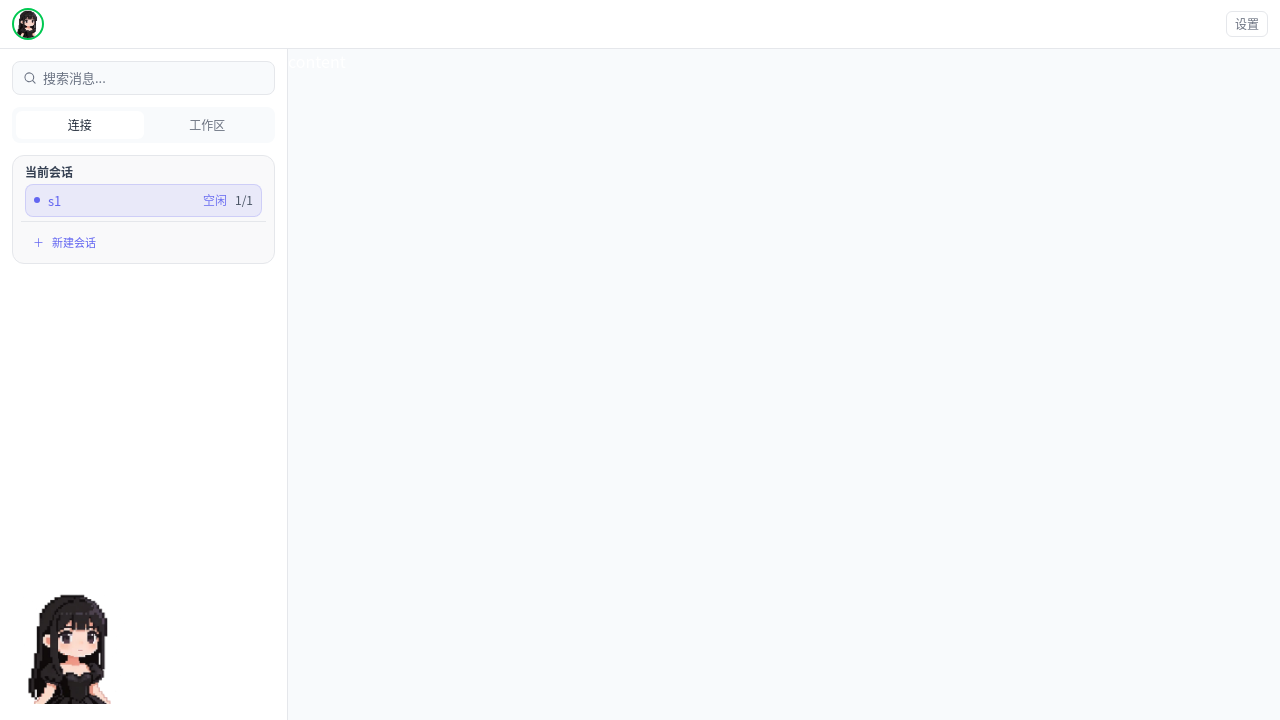
Scenario: Layout › desktop layout › shows the workspace panel for the active connection
Click the tab "工作区" at (207, 124), box [144,110,271,138]
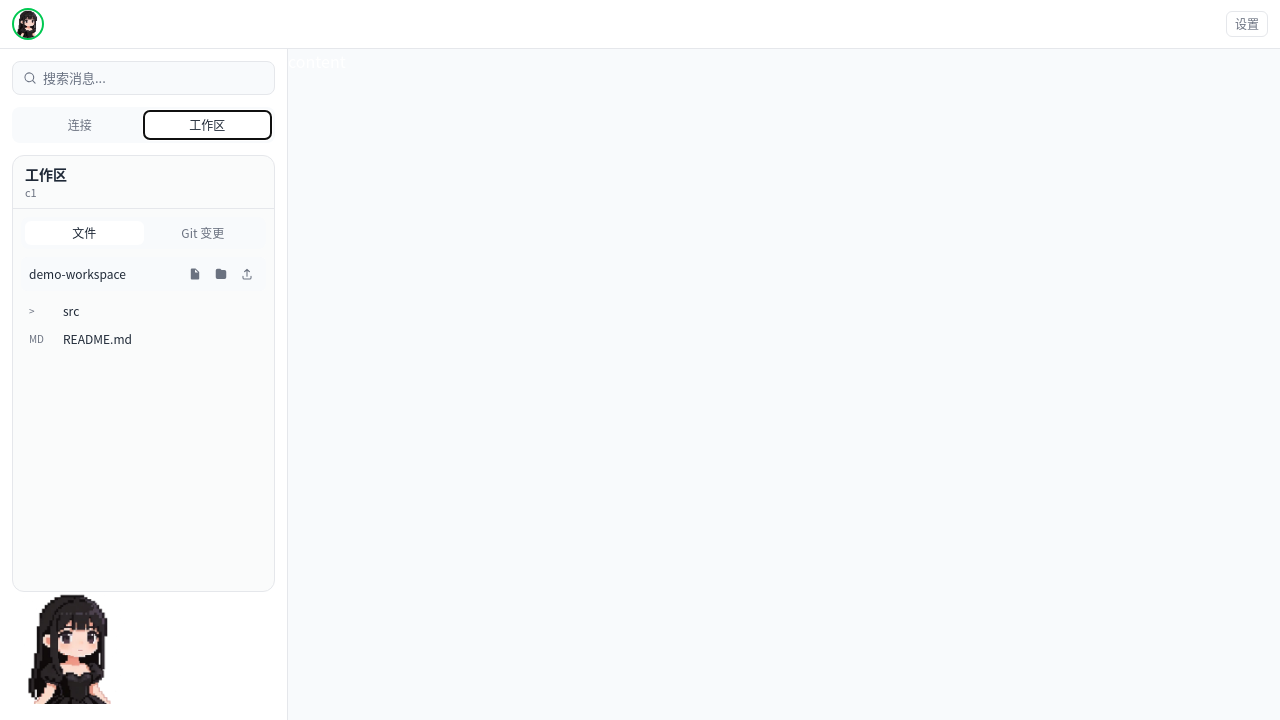
Now the element with test id "workspace-panel" is shown, box [12,154,275,592]
Now the text "demo-workspace" is shown, box [29,265,126,282]
Now the button "MD README.md" is shown, box [21,327,266,351]
